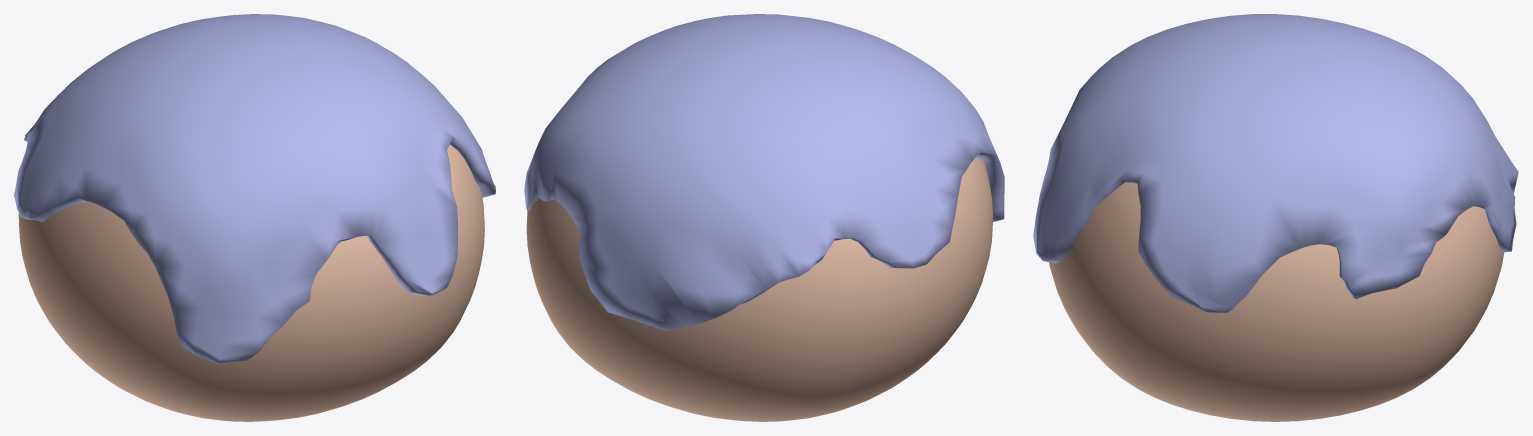
File: blue clay.fbx
3 renders of one model, left to right at view 1: azimuth 30°, elevation 25°; view 2: azimuth 150°, elevation 25°; view 3: azimuth 270°, elevation 25°, orthographic.
Parts seen in each view (by area): view 1: yellow clay; view 2: yellow clay; view 3: yellow clay.
Part boxes in pixels (x1,y1,x2,y2): yellow clay: [14, 14, 495, 421]; yellow clay: [524, 14, 1004, 421]; yellow clay: [1033, 14, 1518, 421].
Bounding box in the file's own units: 92.47 × 74.29 × 93.34.
